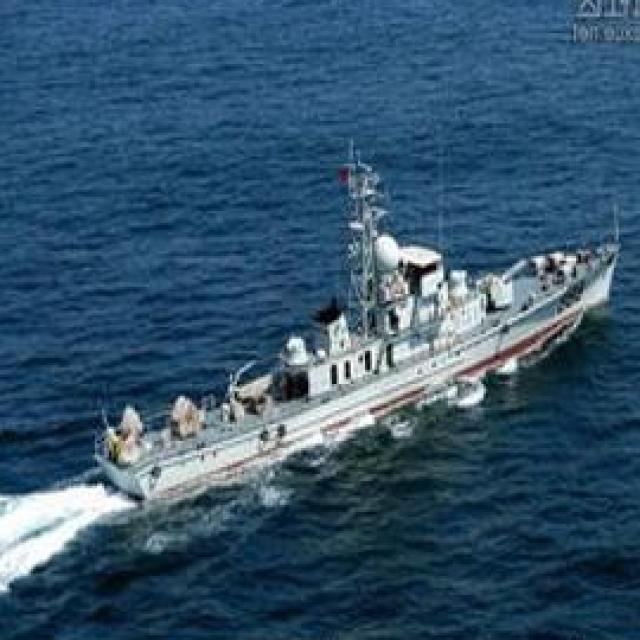navalvessels: (81, 156, 640, 542)
